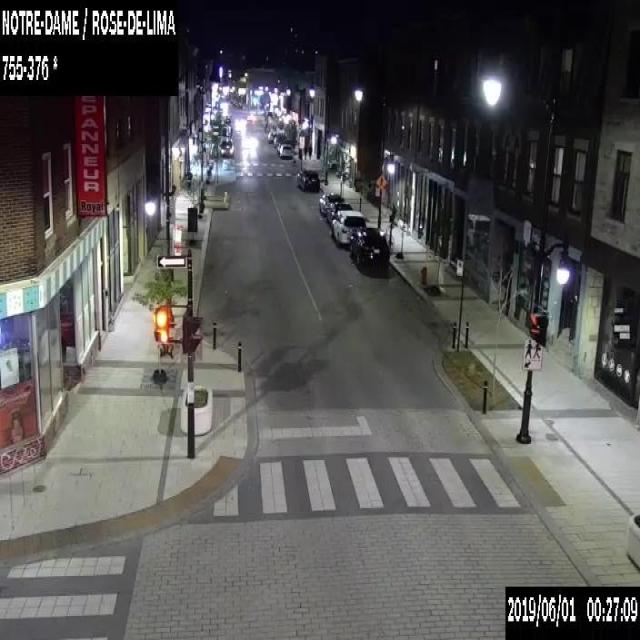pedestrian: (308, 144, 312, 159), (303, 144, 307, 159)
vehicle: (349, 226, 388, 271), (331, 210, 365, 246), (325, 201, 353, 226), (318, 192, 344, 215), (297, 168, 319, 191), (220, 138, 233, 157), (279, 143, 292, 158), (267, 131, 274, 142), (273, 136, 278, 146), (276, 142, 280, 152)
